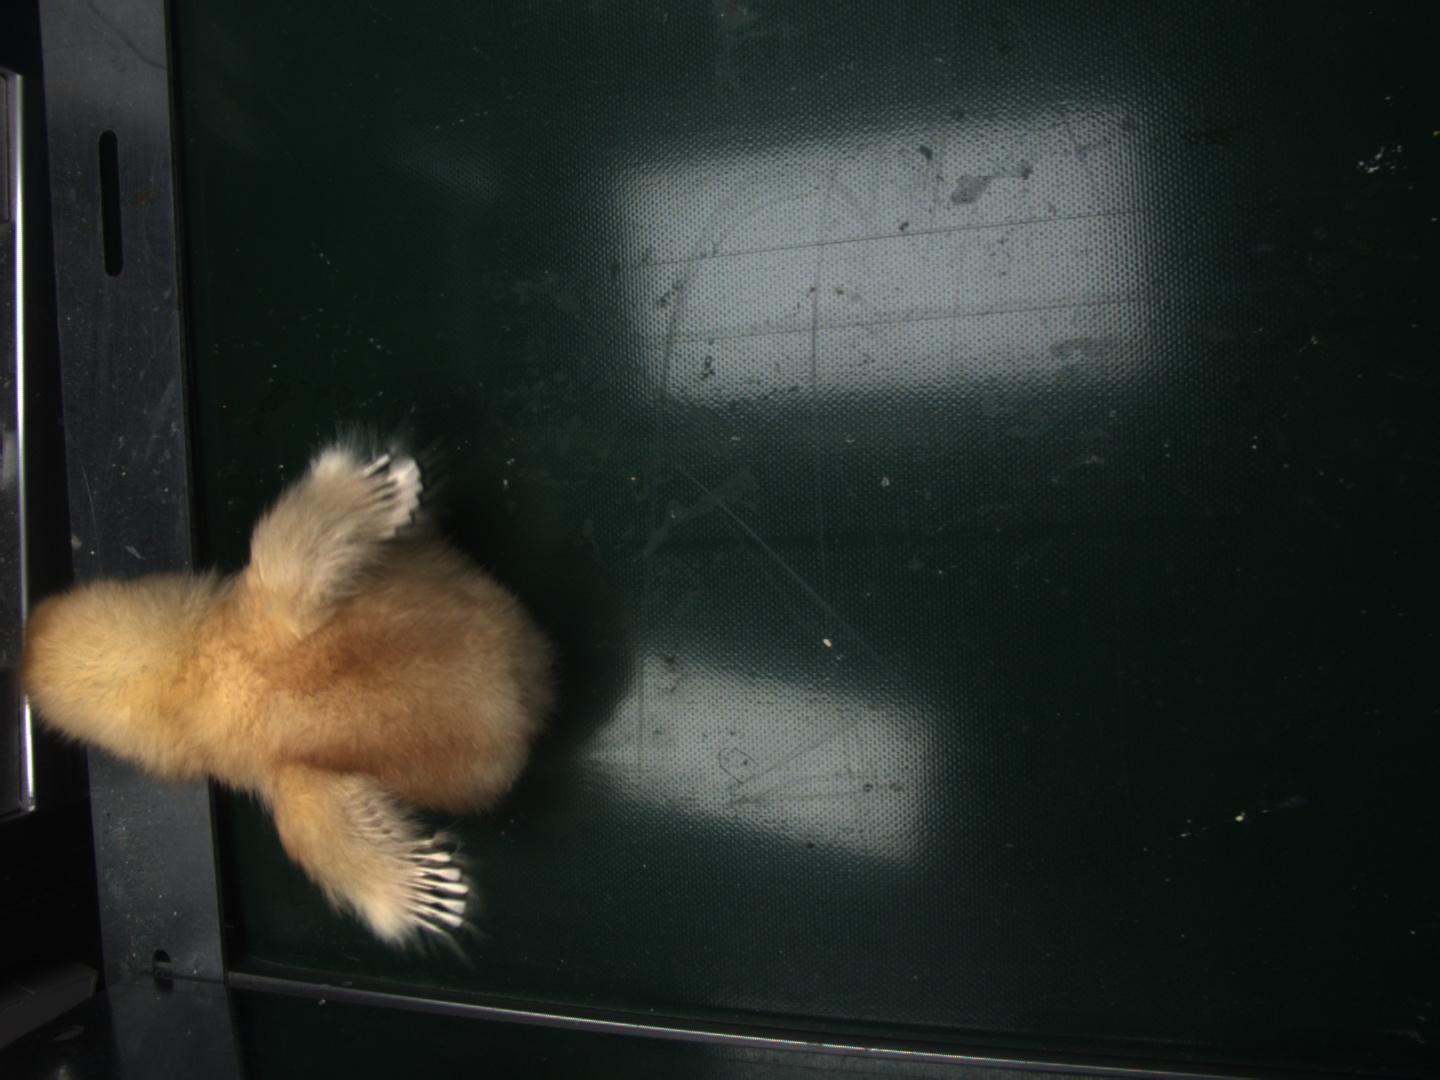female: (398, 839, 465, 940)
